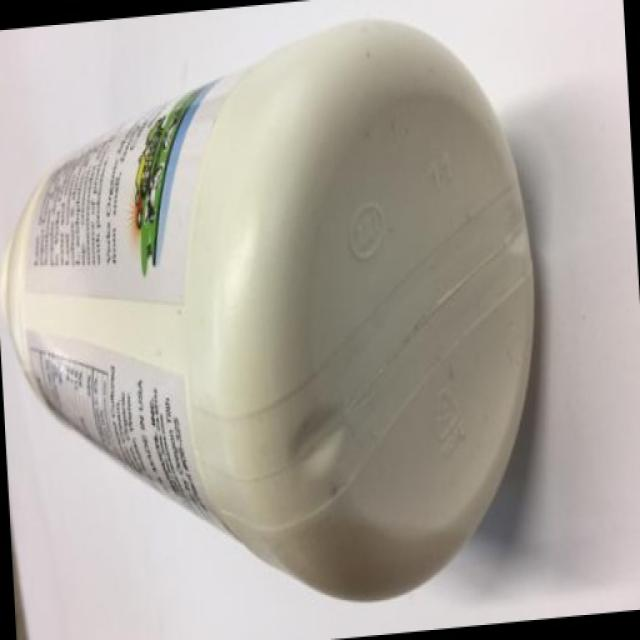plastico: (27, 17, 549, 609)
